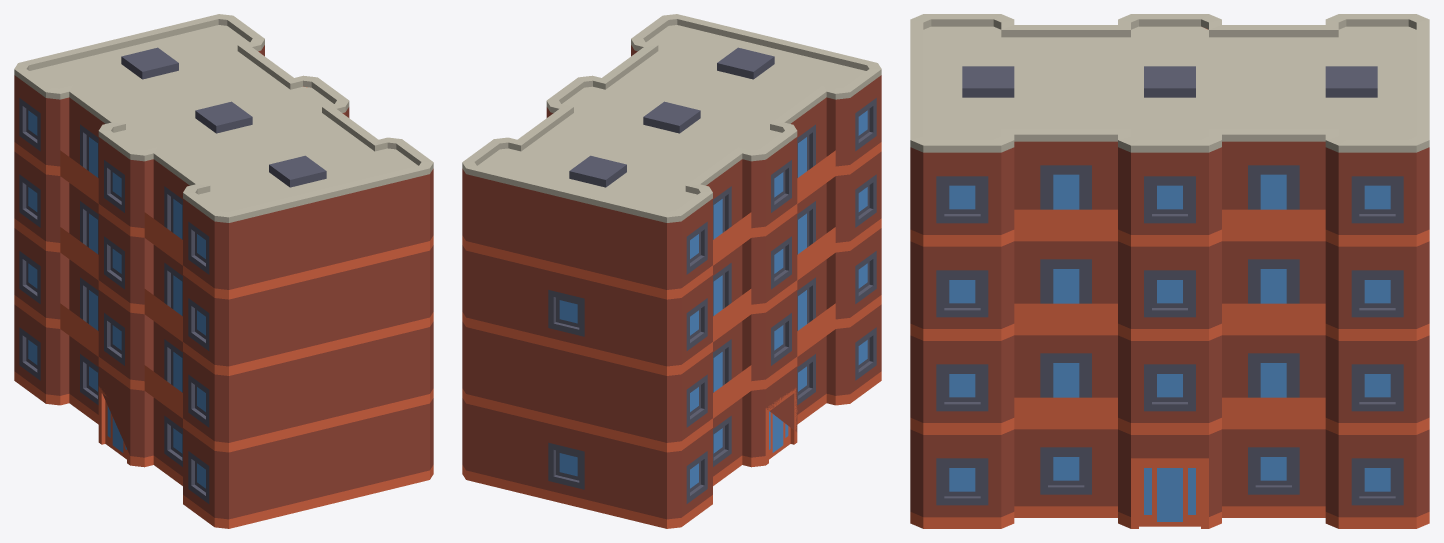
The picture shows the model from 3 angles, left to right: view 1: azimuth 30°, elevation 25°; view 2: azimuth 150°, elevation 25°; view 3: azimuth 270°, elevation 25°; orthographic projection. The views are drawn at different scales.
Visible parts, largest first — view 1: predio 4; view 2: predio 4; view 3: predio 4.
Part boxes in pixels (<box>): predio 4: <box>14,14,433,528</box>; predio 4: <box>462,14,881,528</box>; predio 4: <box>910,14,1429,528</box>.
Size of the model in its own units: 5589 by 7638 by 9315.
